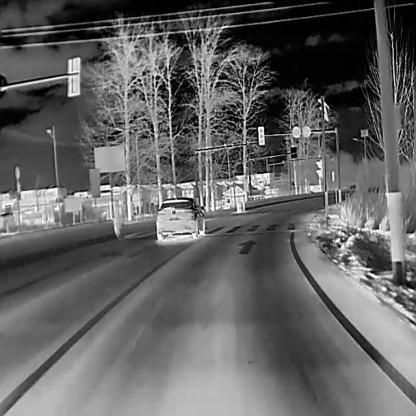car: (156, 196, 206, 240)
